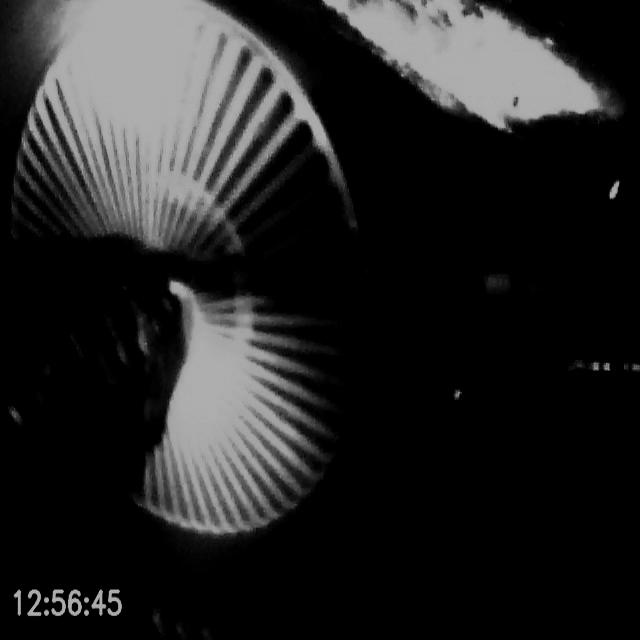white-dots: (482, 269, 590, 306)
